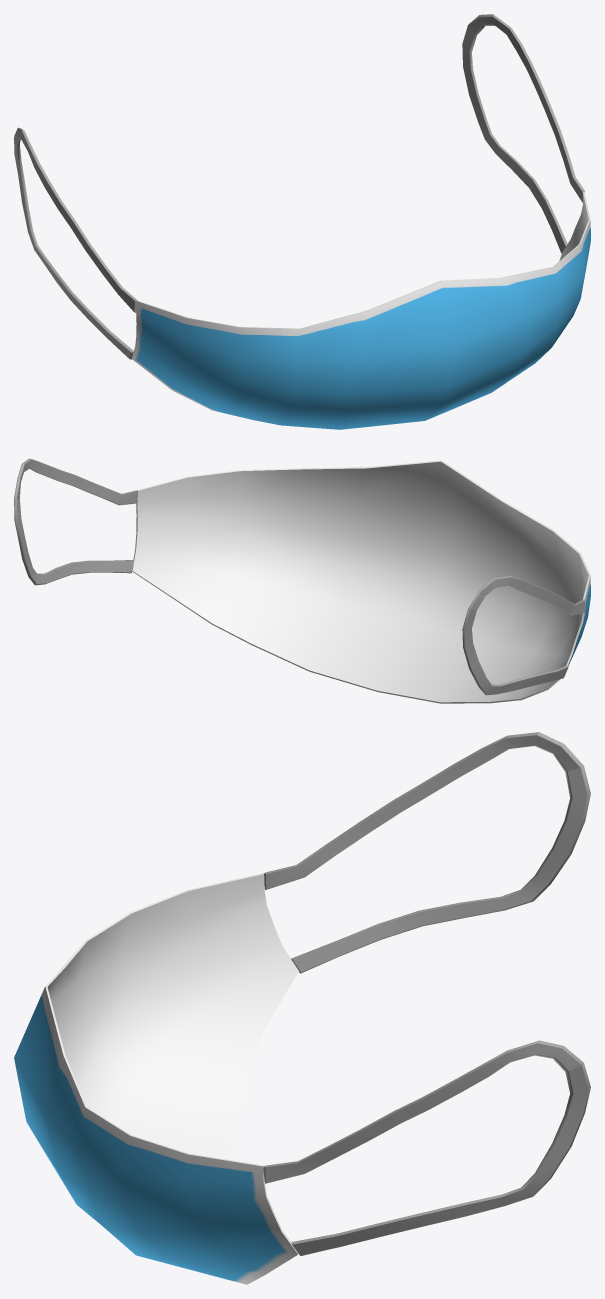
File: Mask.fbx
3 renders of one model, top to bottom at view 1: azimuth 30°, elevation 25°; view 2: azimuth 150°, elevation 25°; view 3: azimuth 270°, elevation 25°, orthographic. The views are drawn at different scales.
Parts seen in each view (by area): view 1: pPlane1, pPlane2; view 2: pPlane1, pPlane2; view 3: pPlane1, pPlane2.
Part boxes in pixels (x1,y1,x2,y2): pPlane1: (131,191,590,429); pPlane2: (14,14,584,359); pPlane1: (132,460,590,703); pPlane2: (14,458,585,695); pPlane1: (14,873,298,1284); pPlane2: (263,732,590,1255).
Bounding box in the file's own units: 1.34 × 0.685 × 1.03.
